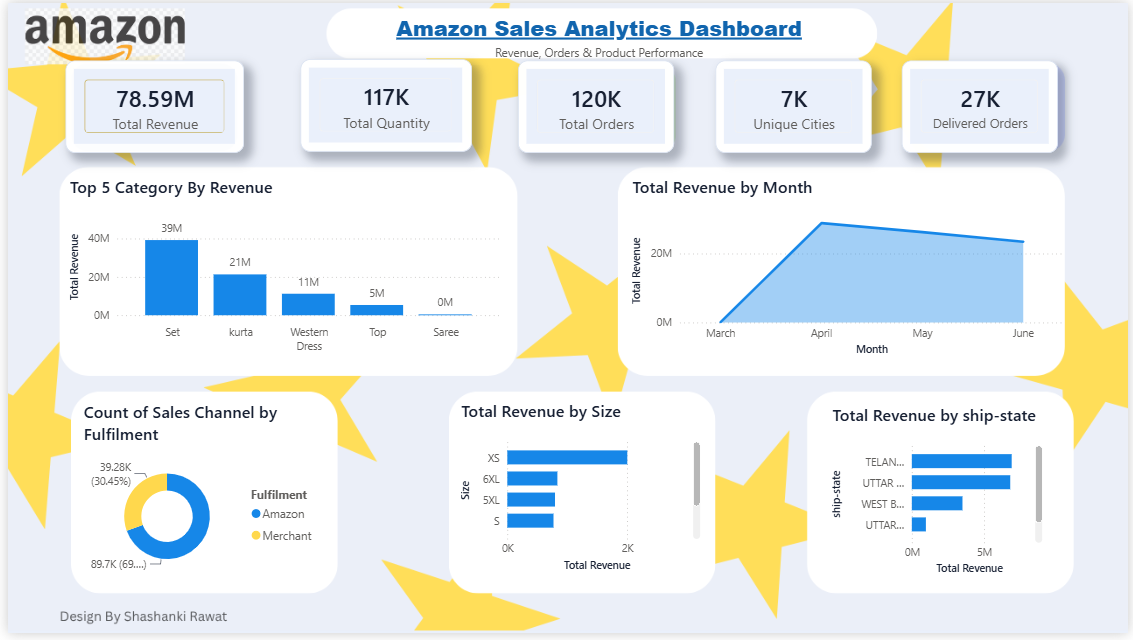

What the dashboard file says about the page in this screenshot:
{"tool":"powerbi","page":{"name":"Overview","canvas":[1280,720],"ordinal":0},"visuals":[{"type":"clusteredColumnChart","title":"Top 5 Category By Revenue","fields":{"Y":["Amazon_Sales_Cleaned.Total Revenue"],"Category":["Amazon_Sales_Cleaned.Category"]},"box":[65.8,197.5,502.6,210.7],"z":0},{"type":"areaChart","fields":{"Y":["Amazon_Sales_Cleaned.Total Revenue"],"Category":["Amazon_Sales_Cleaned.Date.Variation.Date Hierarchy.Month"]},"box":[708.9,197.5,503,211],"z":1000},{"type":"donutChart","fields":{"Category":["Amazon_Sales_Cleaned.Fulfilment"],"Y":["CountNonNull(Amazon_Sales_Cleaned.Sales Channel)"]},"box":[82,454,282,204],"z":2000},{"type":"clusteredBarChart","fields":{"Y":["Amazon_Sales_Cleaned.Total Revenue"],"Category":["Amazon_Sales_Cleaned.Size"]},"box":[513.3,453.3,283.3,201.7],"z":3000},{"type":"clusteredBarChart","fields":{"Y":["Amazon_Sales_Cleaned.Total Revenue"],"Category":["Amazon_Sales_Cleaned.ship-state"]},"box":[936.7,456.7,250,201.7],"z":4000},{"type":"cardVisual","fields":{"Data":["Amazon_Sales_Cleaned.Total Revenue"]},"box":[65.7,65.7,204.3,105.7],"z":5000},{"type":"cardVisual","fields":{"Data":["Amazon_Sales_Cleaned.Delivered Orders"]},"box":[1021.4,65.7,178.6,105.7],"z":6000},{"type":"cardVisual","fields":{"Data":["Amazon_Sales_Cleaned.Total Quantity"]},"box":[334.3,64.3,195.7,105.7],"z":7000},{"type":"cardVisual","fields":{"Data":["Amazon_Sales_Cleaned.Total Orders"]},"box":[582.5,66.2,178.6,105.7],"z":8000},{"type":"cardVisual","fields":{"Data":["Amazon_Sales_Cleaned.Unique Cities"]},"box":[808.6,65.7,178.6,105.7],"z":9000},{"type":"textbox","title":"Amazon Sales Analytics Dashboard ","box":[365,11.2,622.5,52.5],"z":10000}]}

Visuals, with their boxes in screenshot pixels (x1, y1, x2, y2), scaled from the page's 1280x720 canvas onto the 1133x640 screenshot:
"Top 5 Category By Revenue" clusteredColumnChart: (left=58, top=176, right=503, bottom=363)
areaChart - Amazon_Sales_Cleaned.Total Revenue x Amazon_Sales_Cleaned.Date.Variation.Date Hierarchy.Month: (left=627, top=176, right=1073, bottom=363)
donutChart - Amazon_Sales_Cleaned.Fulfilment x CountNonNull(Amazon_Sales_Cleaned.Sales Channel): (left=73, top=404, right=322, bottom=585)
clusteredBarChart - Amazon_Sales_Cleaned.Total Revenue x Amazon_Sales_Cleaned.Size: (left=454, top=403, right=705, bottom=582)
clusteredBarChart - Amazon_Sales_Cleaned.Total Revenue x Amazon_Sales_Cleaned.ship-state: (left=829, top=406, right=1050, bottom=585)
cardVisual - Amazon_Sales_Cleaned.Total Revenue: (left=58, top=58, right=239, bottom=152)
cardVisual - Amazon_Sales_Cleaned.Delivered Orders: (left=904, top=58, right=1062, bottom=152)
cardVisual - Amazon_Sales_Cleaned.Total Quantity: (left=296, top=57, right=469, bottom=151)
cardVisual - Amazon_Sales_Cleaned.Total Orders: (left=516, top=59, right=674, bottom=153)
cardVisual - Amazon_Sales_Cleaned.Unique Cities: (left=716, top=58, right=874, bottom=152)
"Amazon Sales Analytics Dashboard " textbox: (left=323, top=10, right=874, bottom=57)
